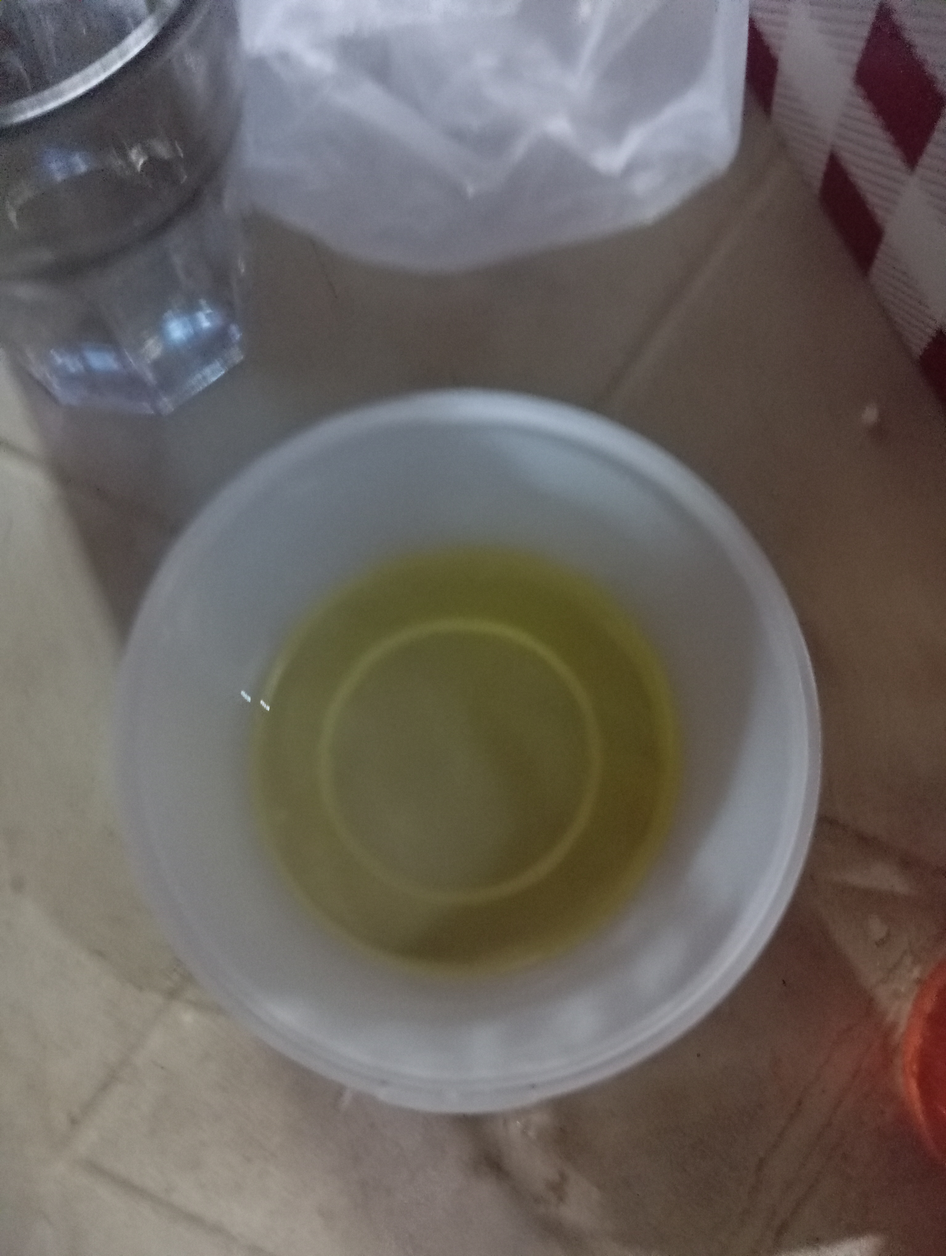reusable: (235, 539, 695, 980)
